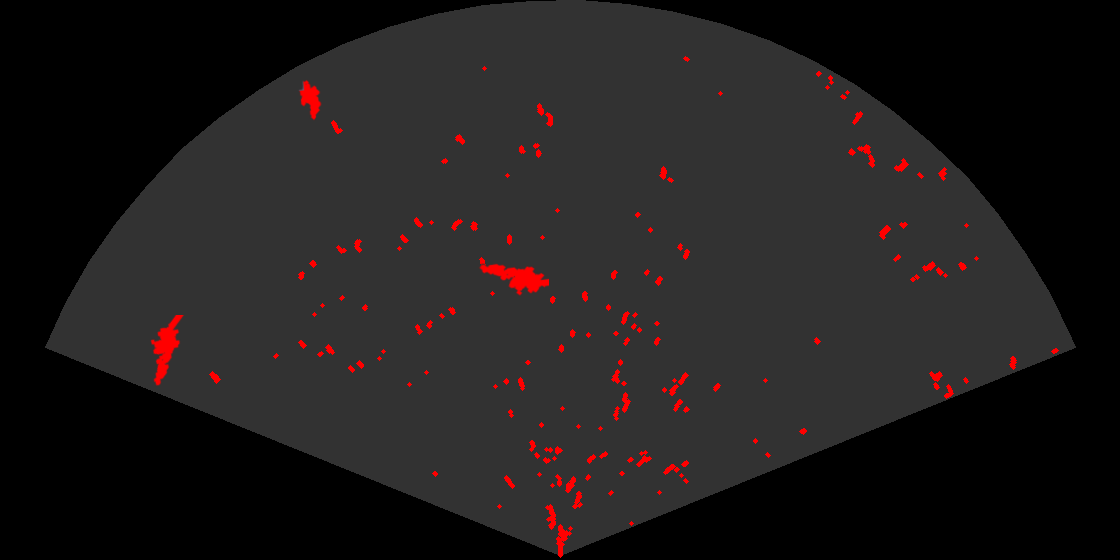AUV: (297, 78, 323, 122)
frogman: (149, 315, 186, 387), (478, 262, 549, 297)
